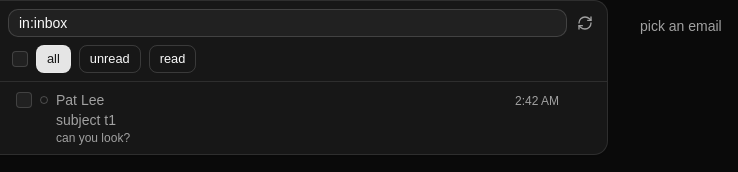
Mail read filter › adds is:unread or is:read to the query
This screenshot has width=738, height=172.
Check: the text "subject t1" is shown, box left=56, top=112, right=116, bottom=128
Click the radio button labelled "unread". click: {"x": 110, "y": 59}
box: left=79, top=45, right=141, bottom=73
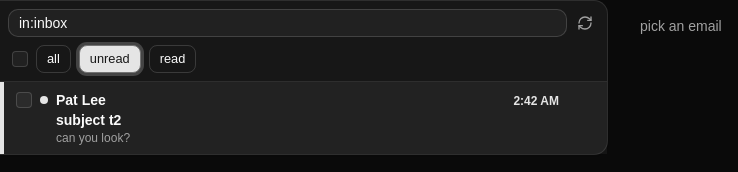
Check: the text "subject t2" is shown, box left=56, top=112, right=121, bottom=128
